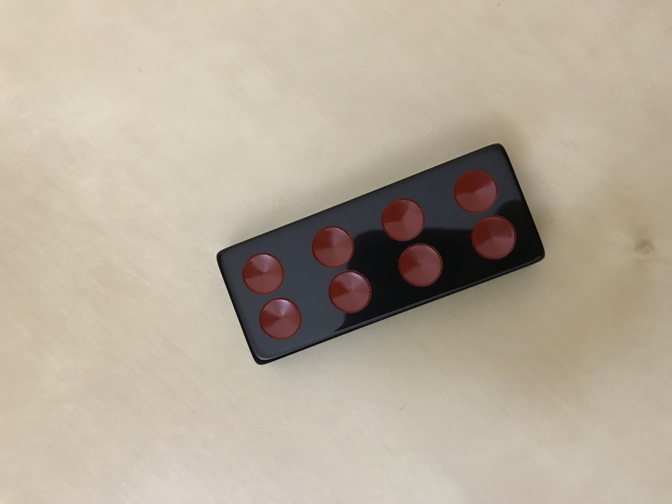man: (215, 142, 548, 364)
